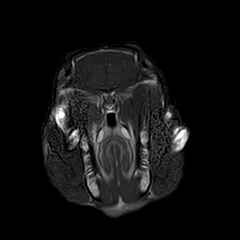Brain: (57, 19, 156, 117)
